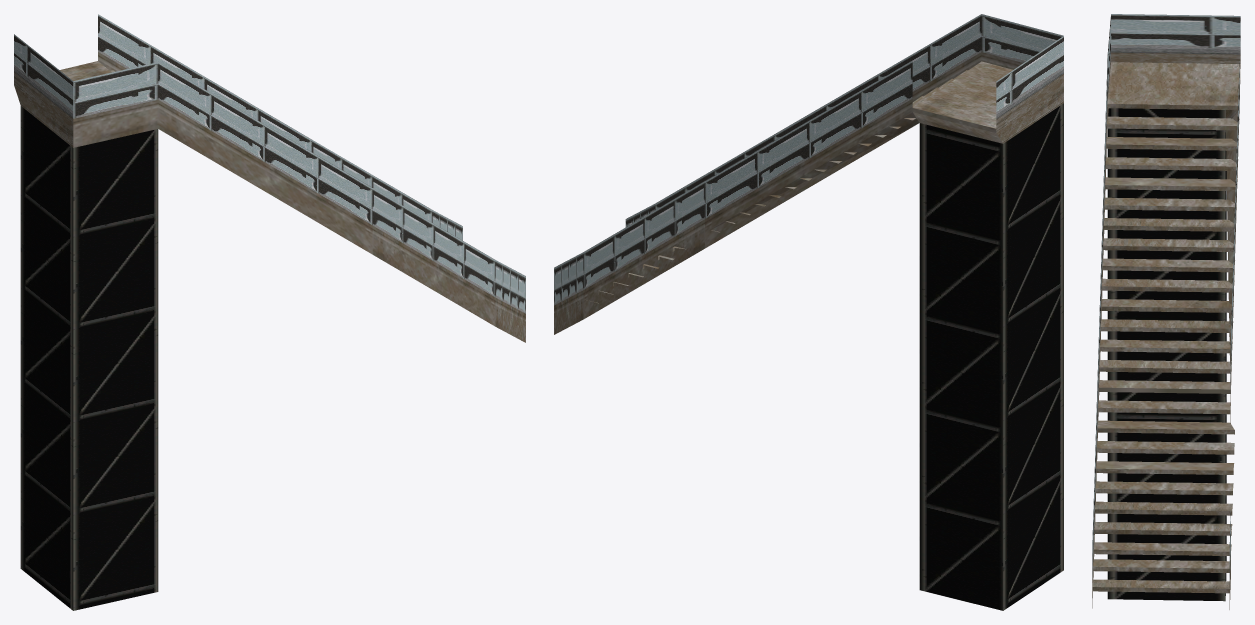
Rendered from odrampbit02.obj.
3 renders of one model, left to right at view 1: azimuth 30°, elevation 25°; view 2: azimuth 150°, elevation 25°; view 3: azimuth 270°, elevation 25°, orthographic. The views are drawn at different scales.
Parts seen in each view (by area): view 1: odrampbit02; view 2: odrampbit02; view 3: odrampbit02.
Boxes of the visible parts, left/top/right/bottom form: odrampbit02: left=14, top=14, right=525, bottom=610; odrampbit02: left=554, top=14, right=1063, bottom=610; odrampbit02: left=1092, top=14, right=1240, bottom=609.
Bounding box in the file's own units: 12.04 × 13.62 × 3.36.
